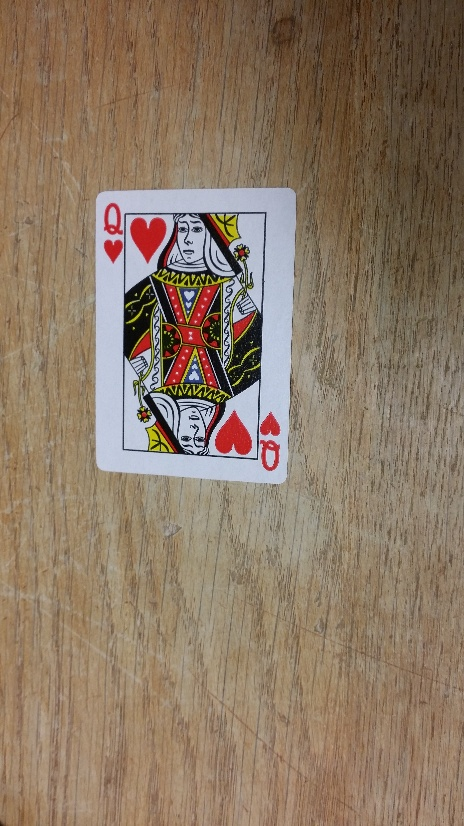Hq: (99, 199, 125, 262), (259, 410, 284, 472)
